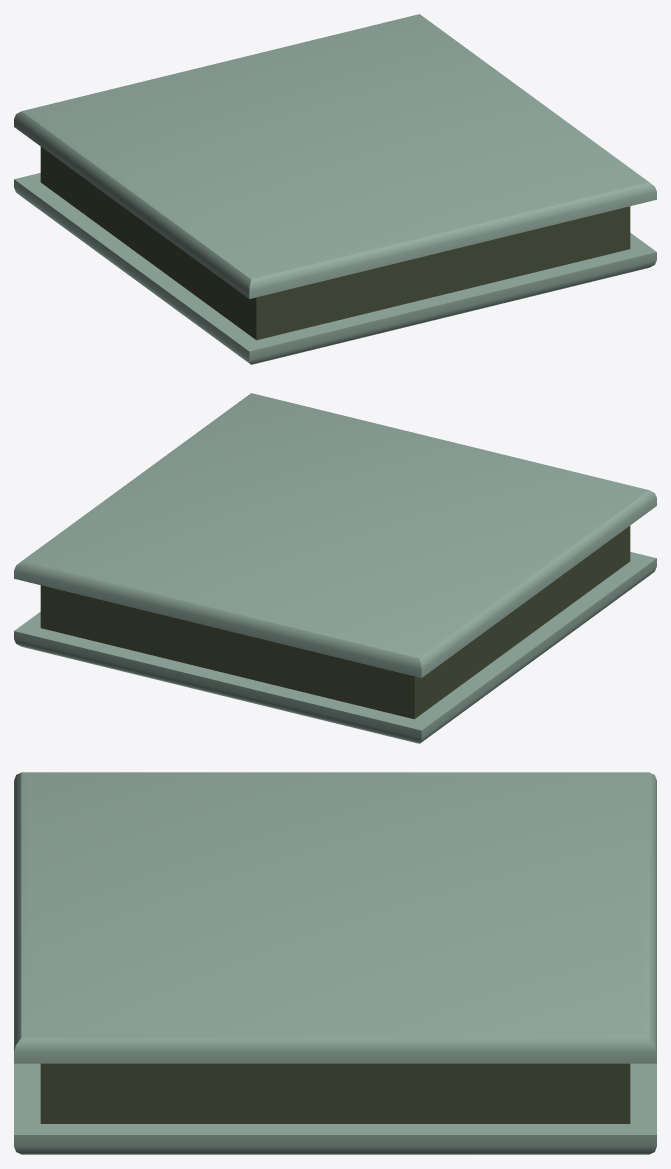
File: Plataforma_flotante.fbx
3 renders of one model, top to bottom at view 1: azimuth 30°, elevation 25°; view 2: azimuth 150°, elevation 25°; view 3: azimuth 270°, elevation 25°, orthographic. The views are drawn at different scales.
Visible parts, largest first — view 1: Plataforma_flotante; view 2: Plataforma_flotante; view 3: Plataforma_flotante.
Part boxes in pixels (bbox=[...]): Plataforma_flotante: bbox=[14, 14, 656, 364]; Plataforma_flotante: bbox=[14, 393, 656, 743]; Plataforma_flotante: bbox=[14, 772, 656, 1154].
Size of the model in its own units: 321 by 66.34 by 321.
